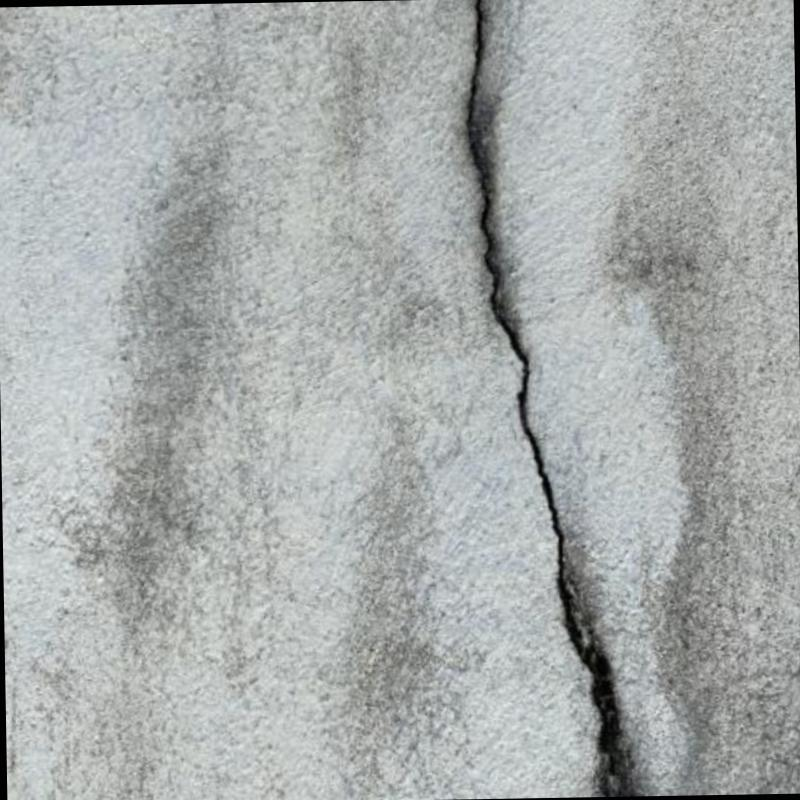pothole: (467, 0, 637, 794)
